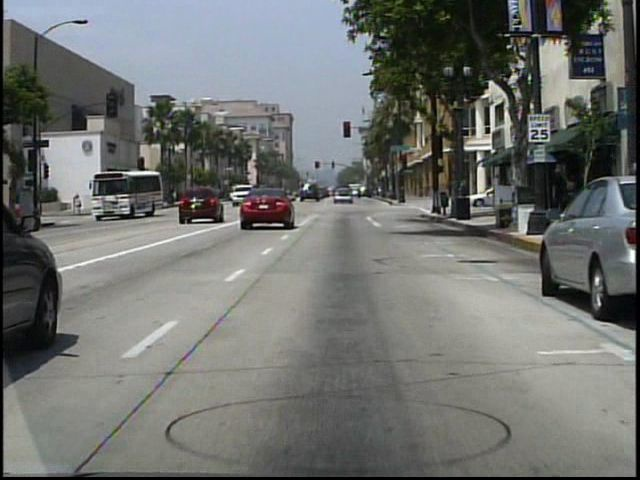person: (73, 194, 84, 215)
